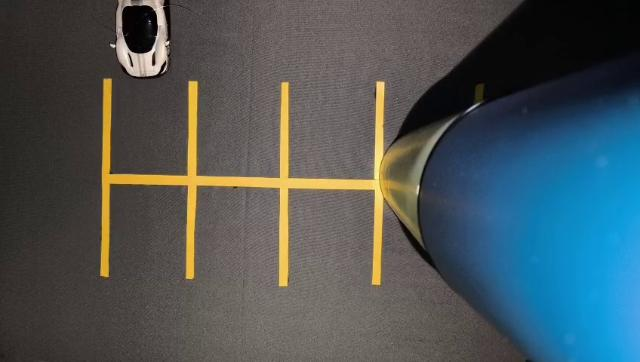toy_car: (106, 0, 193, 98)
